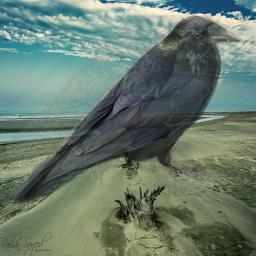Crow: (7, 15, 245, 207)
